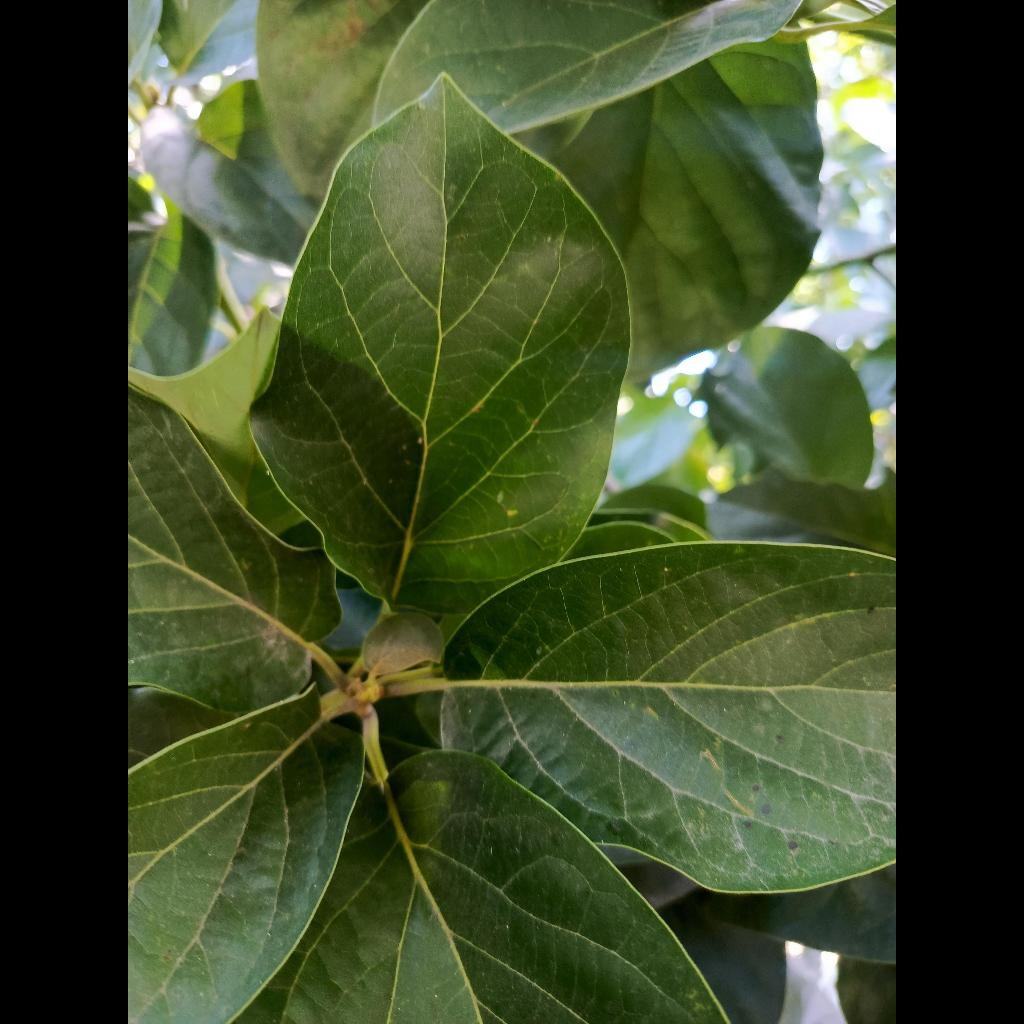Healthy: (252, 78, 630, 613), (440, 543, 896, 891)
